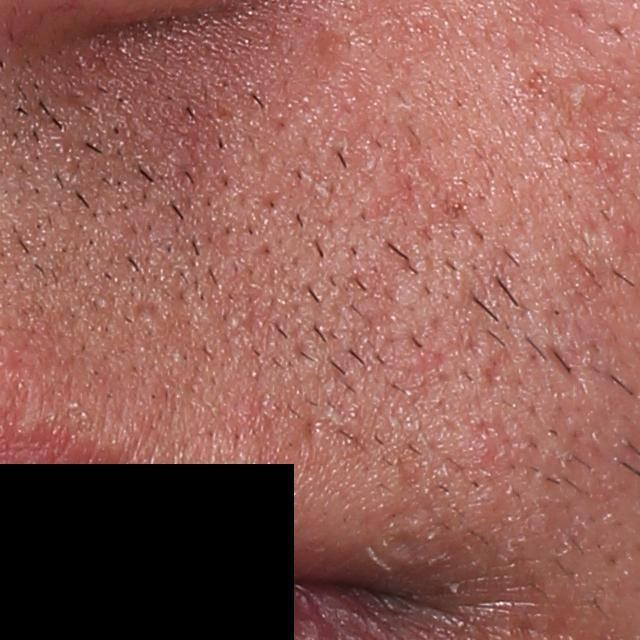atrophic_scar: (468, 413, 508, 481), (486, 347, 511, 387), (132, 300, 162, 325)
